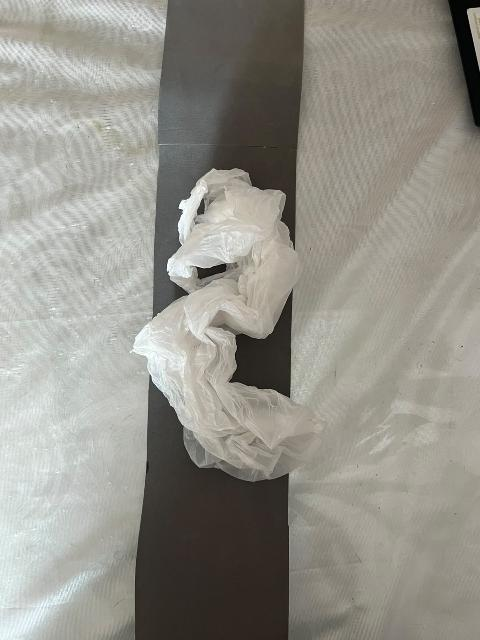LDPE: (100, 120, 382, 607)
